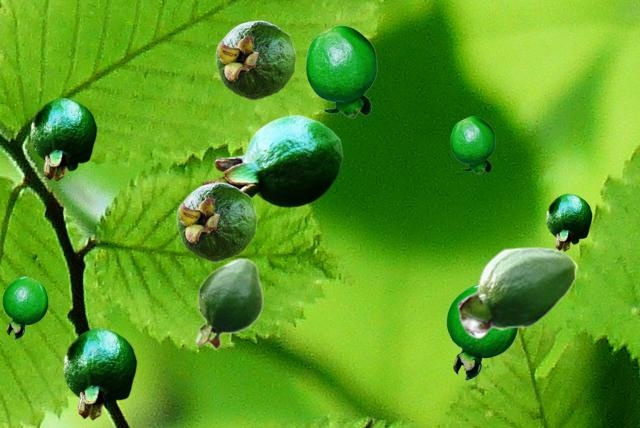guava: (202, 114, 342, 207), (457, 246, 577, 338), (446, 284, 517, 379), (63, 327, 136, 419), (305, 25, 376, 117), (215, 20, 295, 99), (176, 182, 256, 261), (195, 257, 262, 349), (30, 97, 96, 180), (2, 276, 47, 338), (546, 193, 591, 250), (450, 116, 494, 173)
